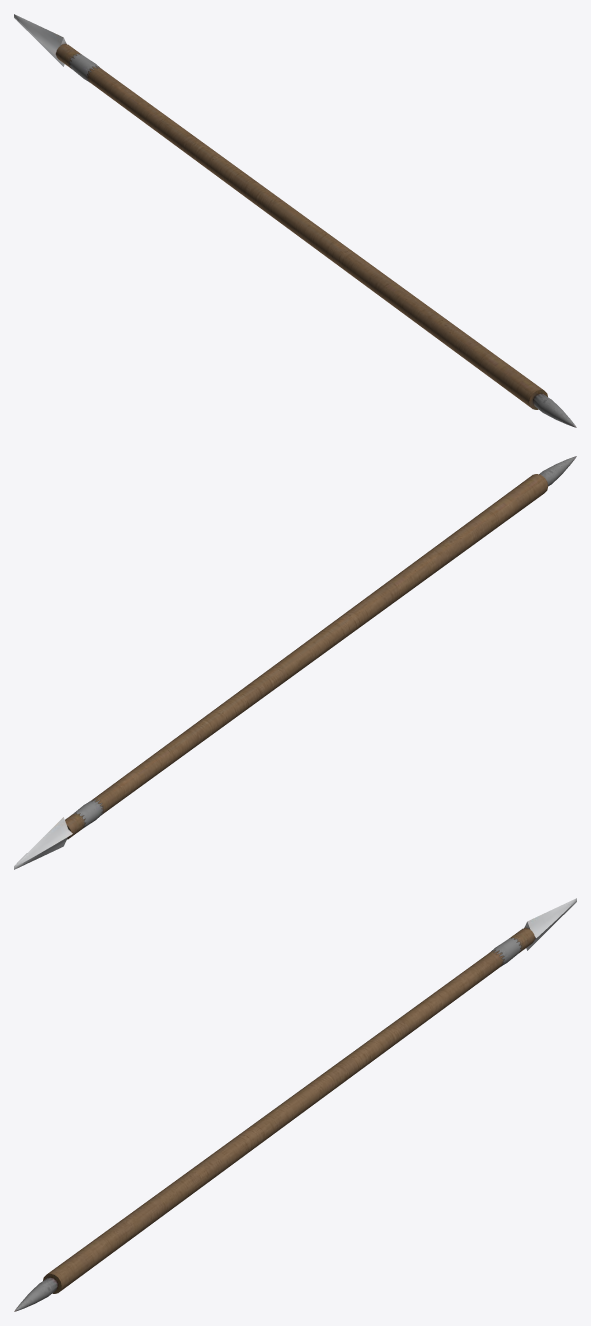
File: isaurian_javelin.glb
3 views of the same model, one above another, from view 1: azimuth 30°, elevation 25°; view 2: azimuth 150°, elevation 25°; view 3: azimuth 330°, elevation 25° (orthographic).
Parts seen in each view (by area): view 1: isaurian_javelin; view 2: isaurian_javelin; view 3: isaurian_javelin.
Part boxes in pixels (x1,y1,x2,y2): isaurian_javelin: (14,14,576,427); isaurian_javelin: (14,456,576,869); isaurian_javelin: (14,898,576,1311).
Size of the model in its own units: 0.031 by 0.0461 by 1.59.
Materials: 1 (1 with a texture image).
